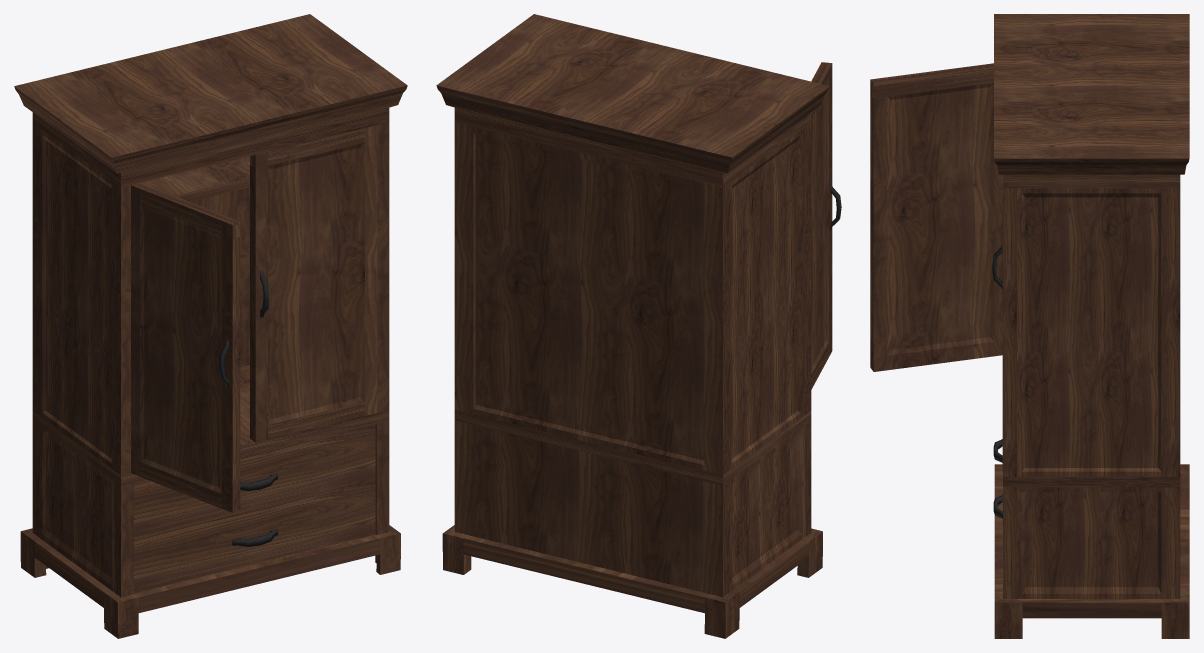
Rendered from wardrobe 0.2.glb.
3 renders of one model, left to right at view 1: azimuth 30°, elevation 25°; view 2: azimuth 150°, elevation 25°; view 3: azimuth 270°, elevation 25°, orthographic.
Visible parts, largest first — view 1: wardrobe-col, Wardrobe Door Right.001, Wardrobe Door Left.001, Wardrobe Drawer 2.001, Wardrobe Drawer 2.002; view 2: wardrobe-col, Wardrobe Door Left.001; view 3: wardrobe-col, Wardrobe Door Left.001, Wardrobe Door Right.001.
Part boxes in pixels (left/top/right/bottom): wardrobe-col: left=14, top=14, right=407, bottom=638; Wardrobe Door Right.001: left=250, top=125, right=377, bottom=442; Wardrobe Door Left.001: left=131, top=183, right=240, bottom=512; Wardrobe Drawer 2.001: left=133, top=478, right=375, bottom=593; Wardrobe Drawer 2.002: left=133, top=424, right=375, bottom=537; wardrobe-col: left=436, top=14, right=829, bottom=638; Wardrobe Door Left.001: left=811, top=62, right=841, bottom=389; wardrobe-col: left=994, top=14, right=1189, bottom=638; Wardrobe Door Left.001: left=870, top=63, right=1002, bottom=371; Wardrobe Door Right.001: left=992, top=175, right=1002, bottom=470.
Size of the model in its own units: 1.47 by 2.29 by 1.37.
3 materials, 1 textured.
